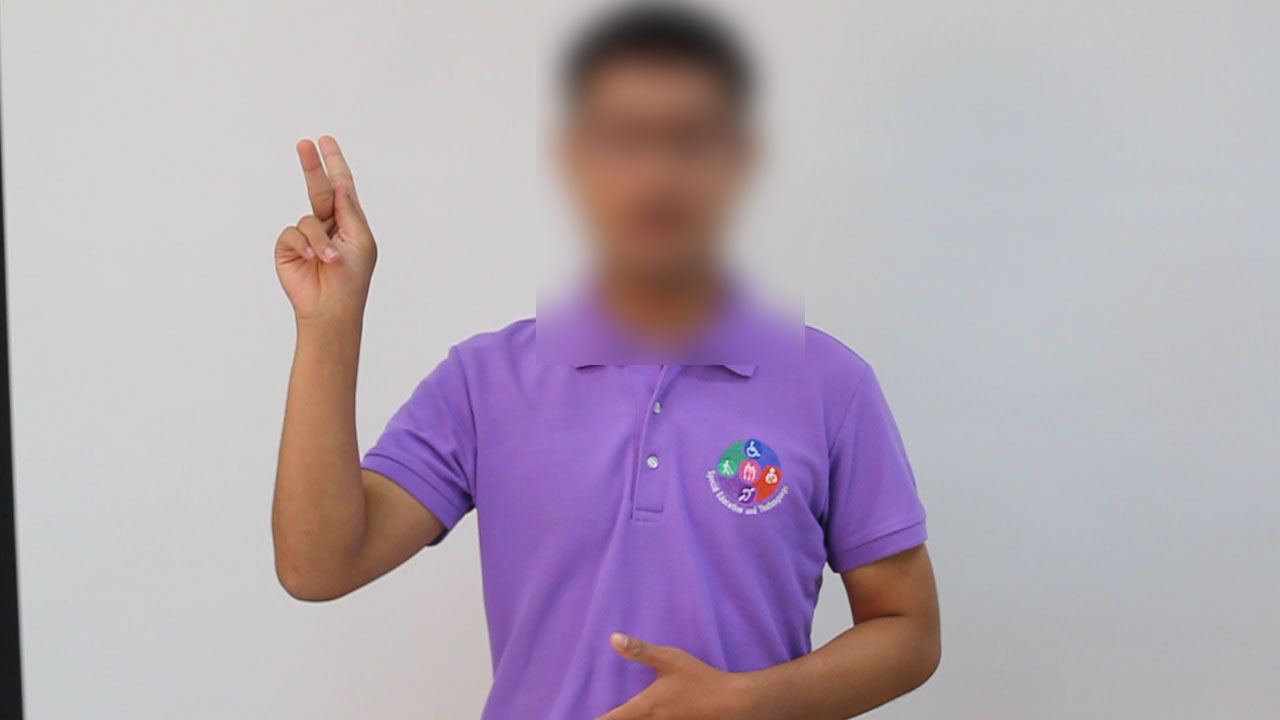ko: (229, 119, 422, 364)
